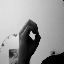o: (18, 18, 42, 51)
